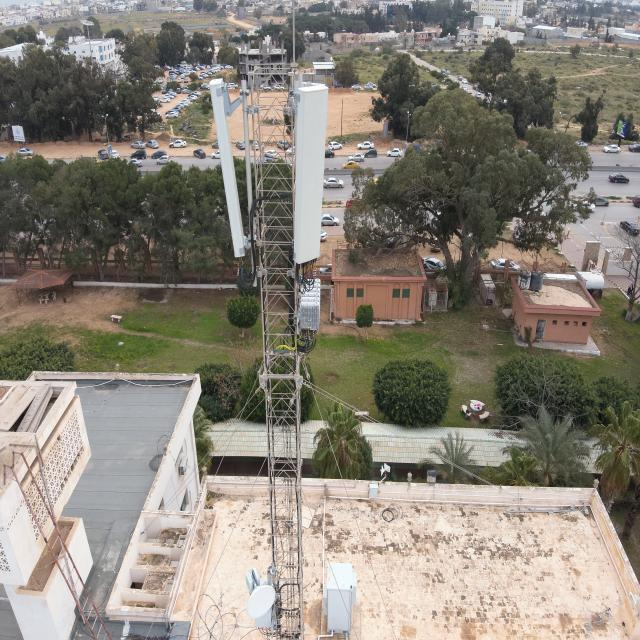antenna: (208, 77, 248, 258), (294, 84, 330, 264)
lighnig-rad: (290, 1, 298, 68)
microware-dish: (244, 564, 277, 620)
radio-unit: (299, 275, 323, 331)
